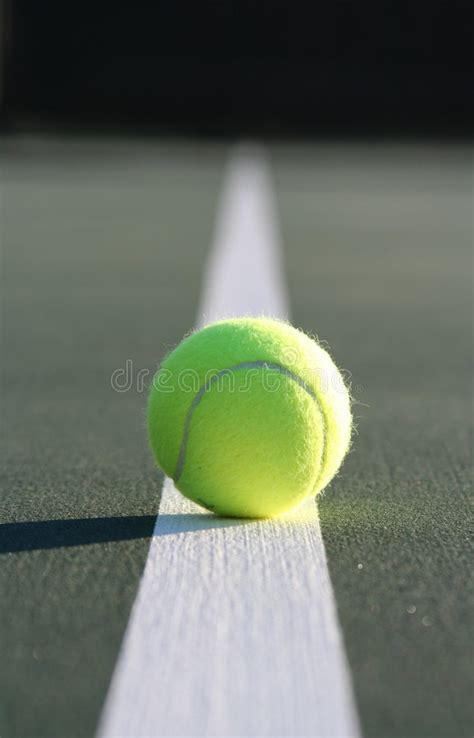tennis_ball: (146, 316, 353, 521)
